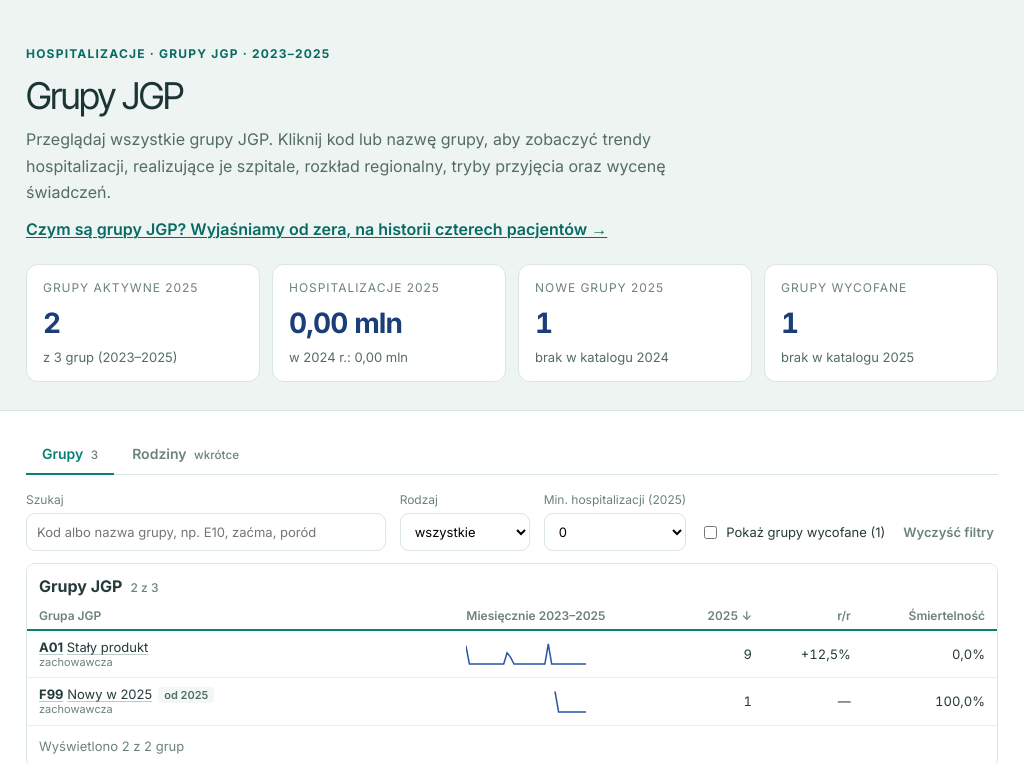
Test case: Katalog grup JGP › sortuje po kliknięciu nagłówka i filtruje minimalną liczbą hospitalizacji
Click the button "Grupa JGP".
click(70, 616)  # box [39,608,101,623]
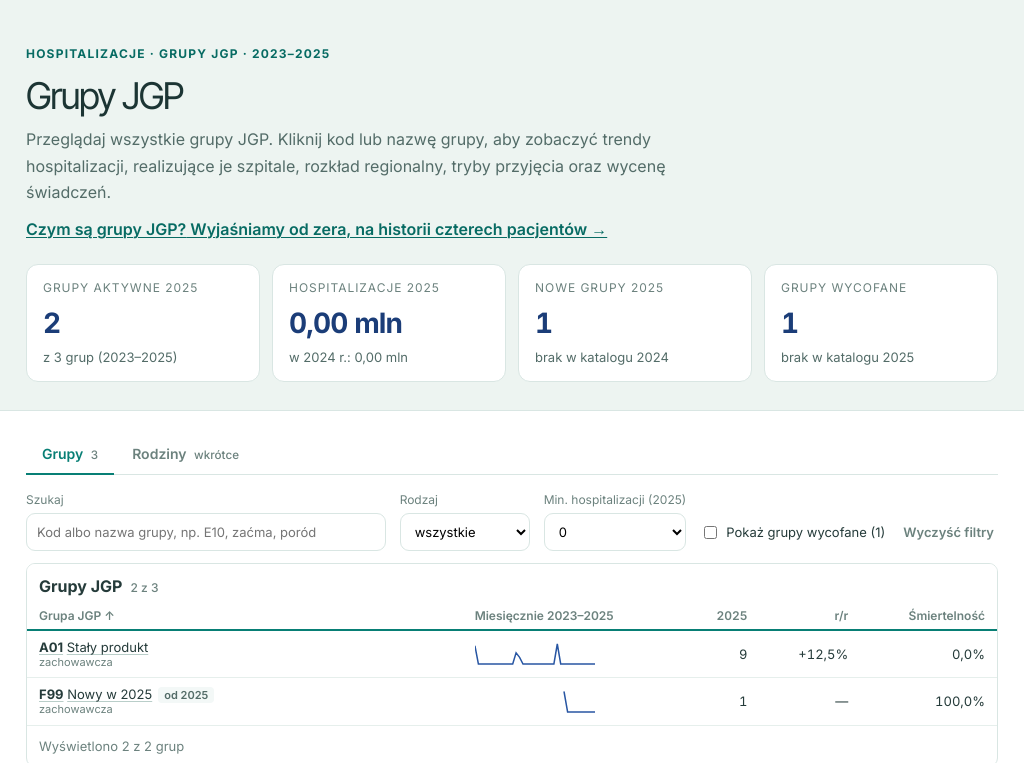
Click the button "Grupa JGP ↑".
click(77, 616)  # box [39,608,115,623]
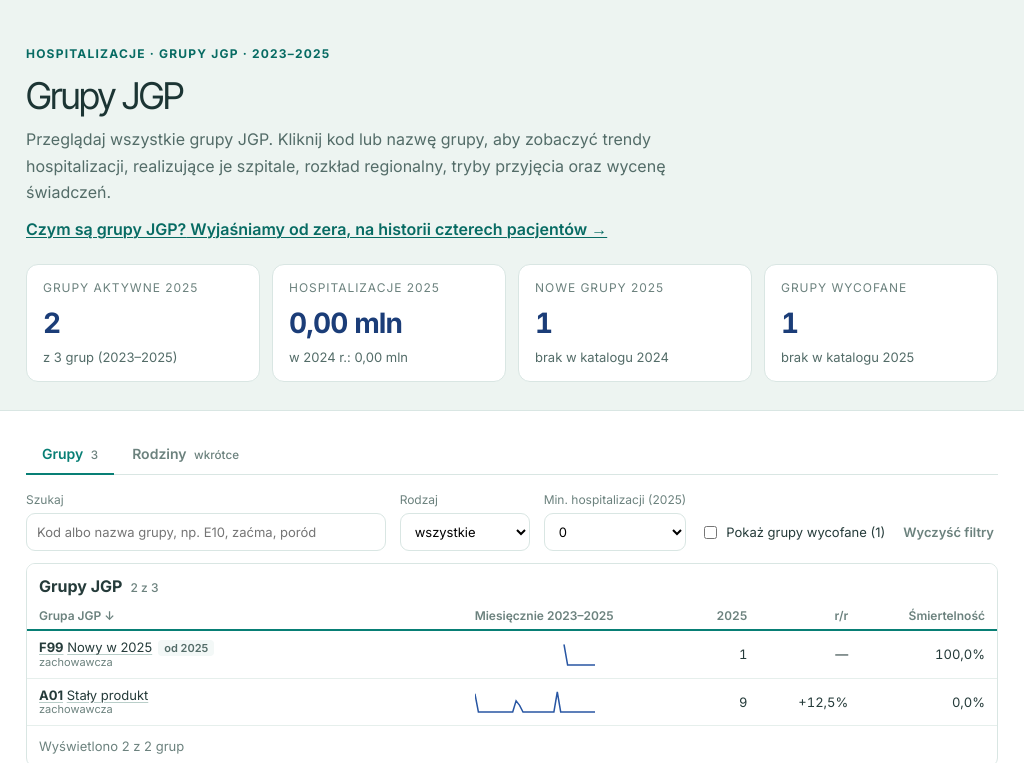
Select "100" in the dropdown labelled "Min. hospitalizacji (2025)" at (615, 532), box [544,513,686,551]
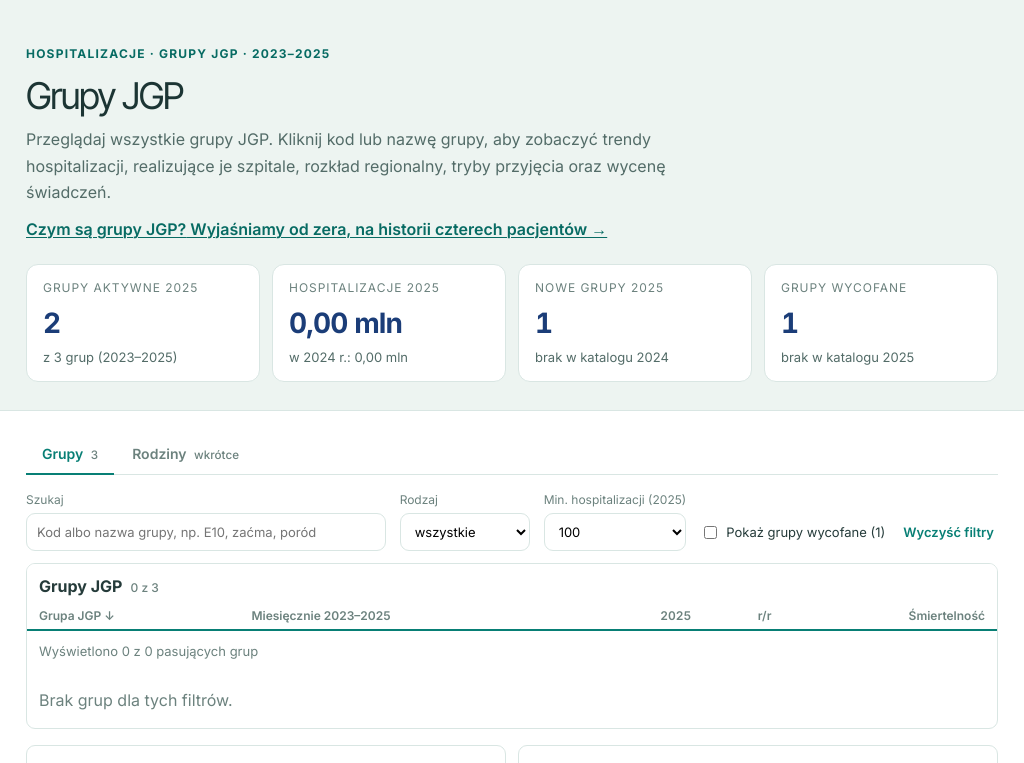
Check: the text "Brak grup dla tych filtrów." is shown, box [39,690,233,710]
